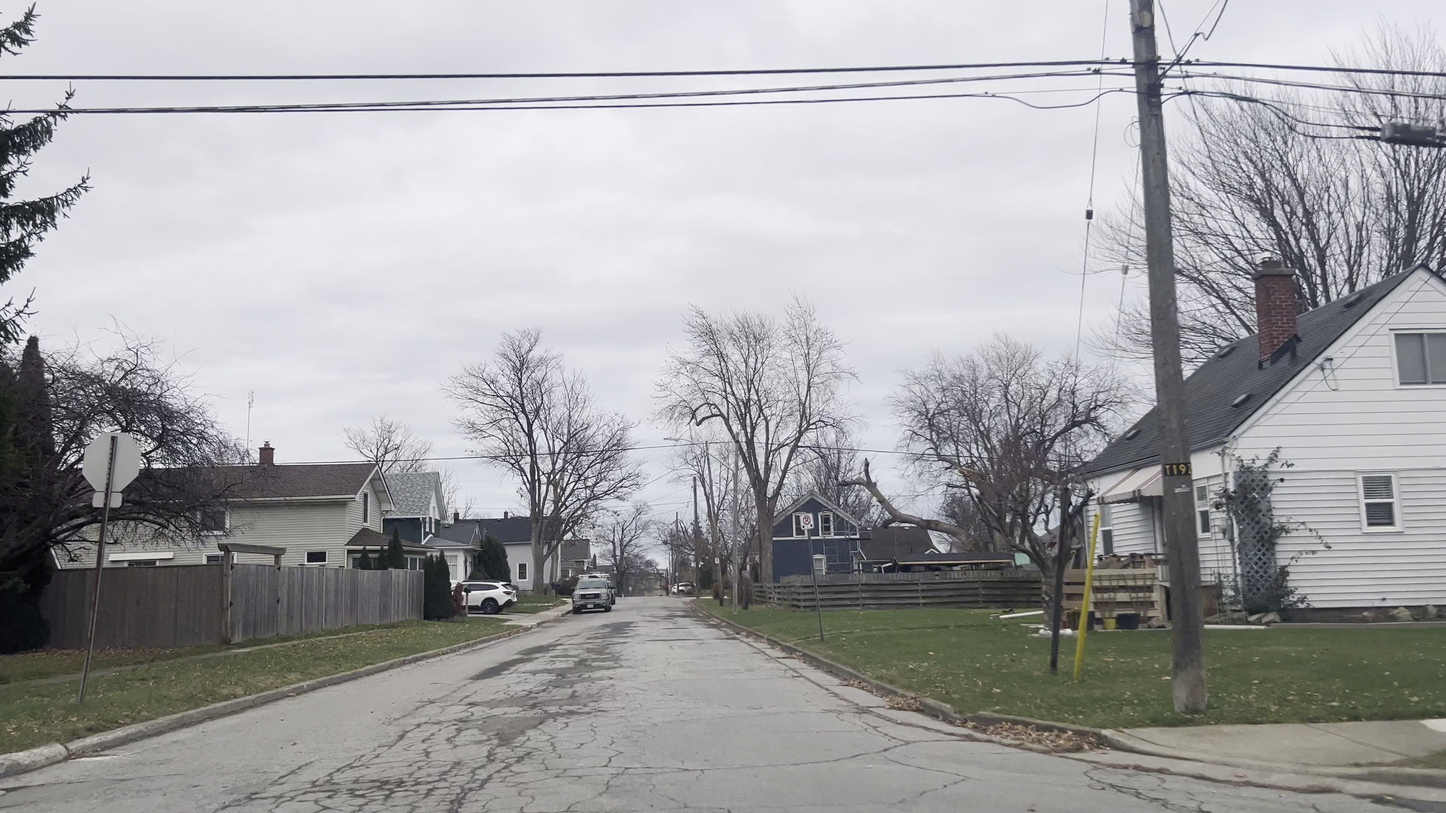cracks: (378, 741, 521, 808), (459, 700, 589, 749), (515, 659, 616, 703), (567, 631, 625, 656)
